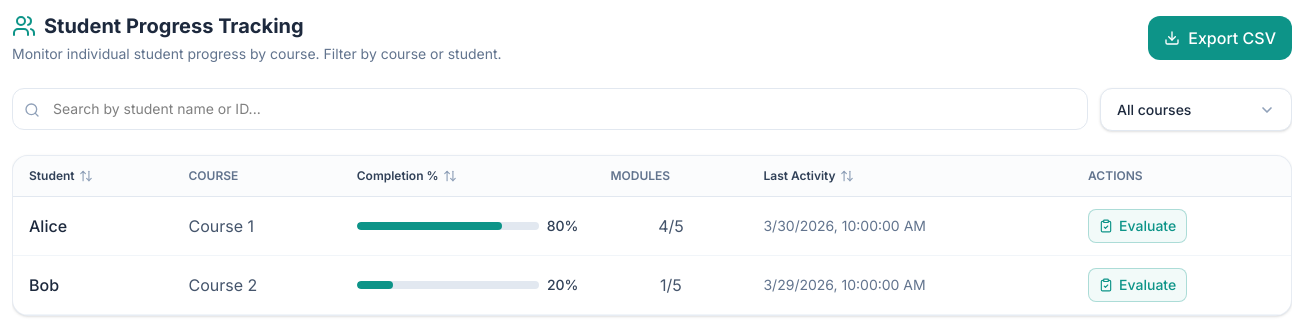
Test case: LearnerProgress › filters by course and learner name/id
Expected: the heading "Student Progress Tracking" is shown, top-left (12, 14), bottom-right (304, 38)
Expected: the text "Alice" is shown, top-left (13, 196), bottom-right (172, 256)
Step 1. Type "ali" into the field with placeholder "Search by student name or ID..." → coordinates (550, 109), box top-left (12, 88), bottom-right (1088, 130)
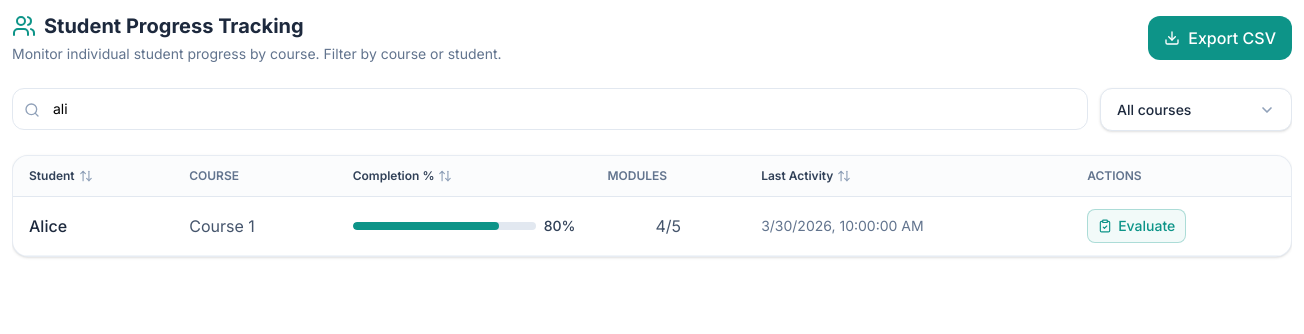
Expected: the text "Alice" is shown, top-left (13, 196), bottom-right (173, 256)
Result: the text "Bob" is gone
Step 2. Replace the text in the field with placeholder "Search by student name or ID..." with "l2" → coordinates (550, 109), box top-left (12, 88), bottom-right (1088, 130)
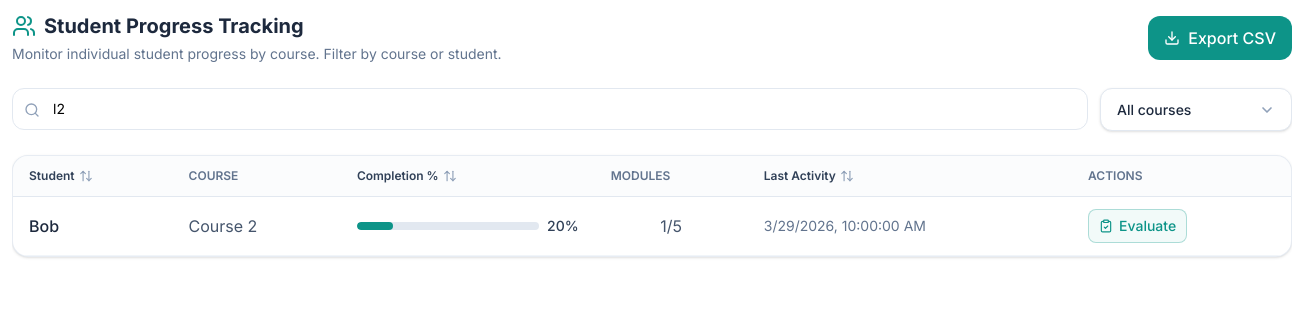
Result: the text "Bob" is shown at top-left (13, 196), bottom-right (173, 256)
Result: the text "Alice" is gone
Step 3. Clear the field with placeholder "Search by student name or ID..." → coordinates (550, 109), box top-left (12, 88), bottom-right (1088, 130)
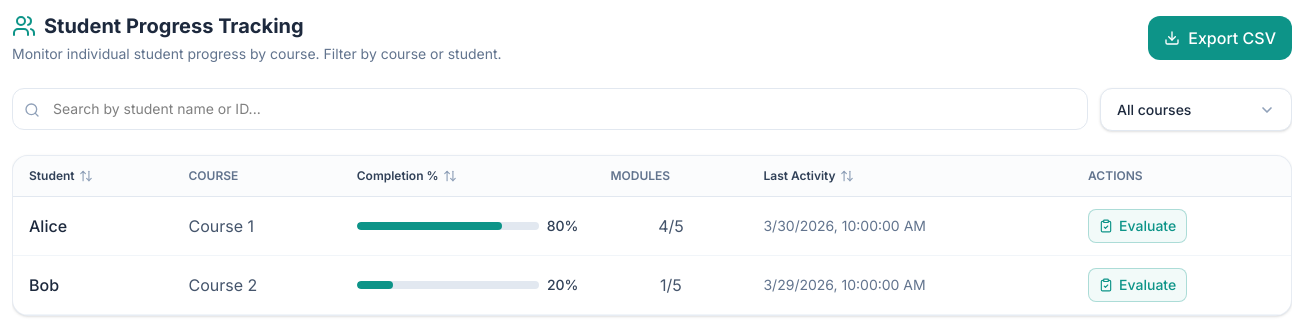
# The course filter is a custom Dropdown: open it, then pick "Course 1".
Step 4. Click the button "All courses" → coordinates (1196, 110), box top-left (1100, 88), bottom-right (1292, 131)
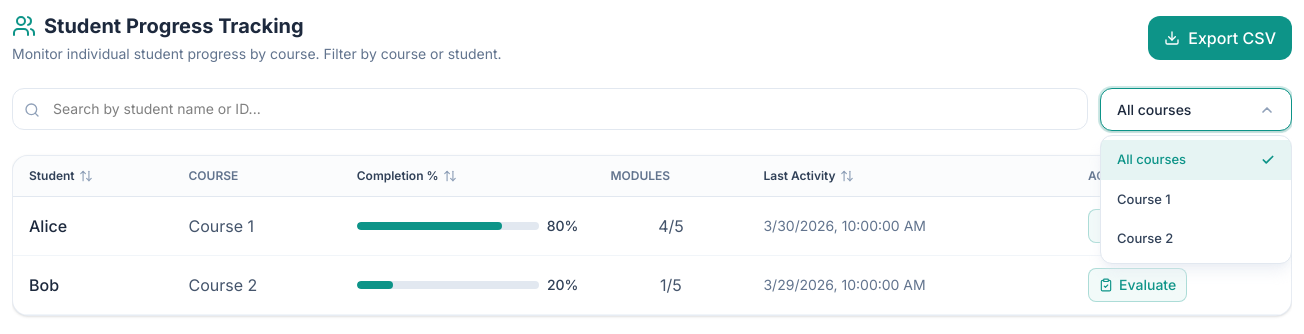
Step 5. Click the button "Course 1" → coordinates (1196, 199), box top-left (1101, 180), bottom-right (1291, 219)
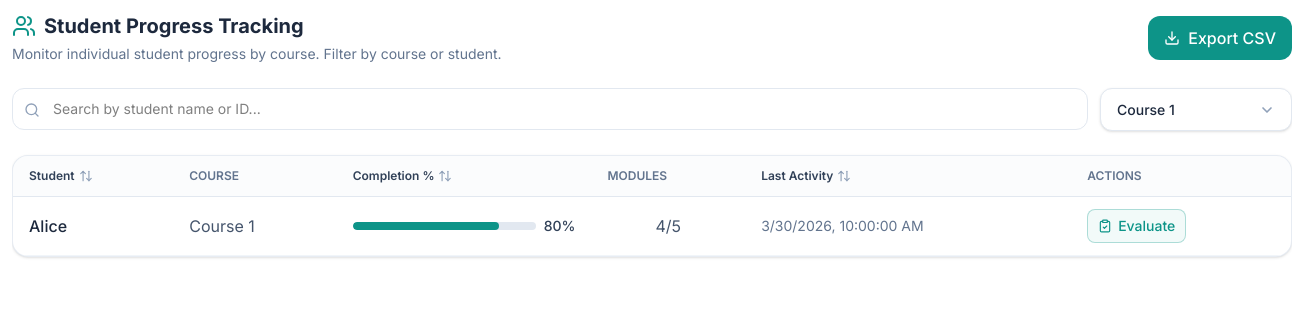
Result: the text "Alice" is shown at top-left (13, 196), bottom-right (173, 256)
Result: the text "Bob" is gone
